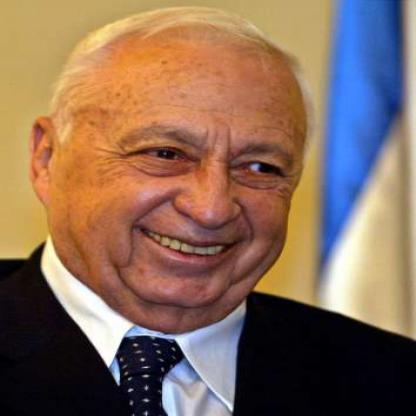face: (53, 17, 320, 313)
